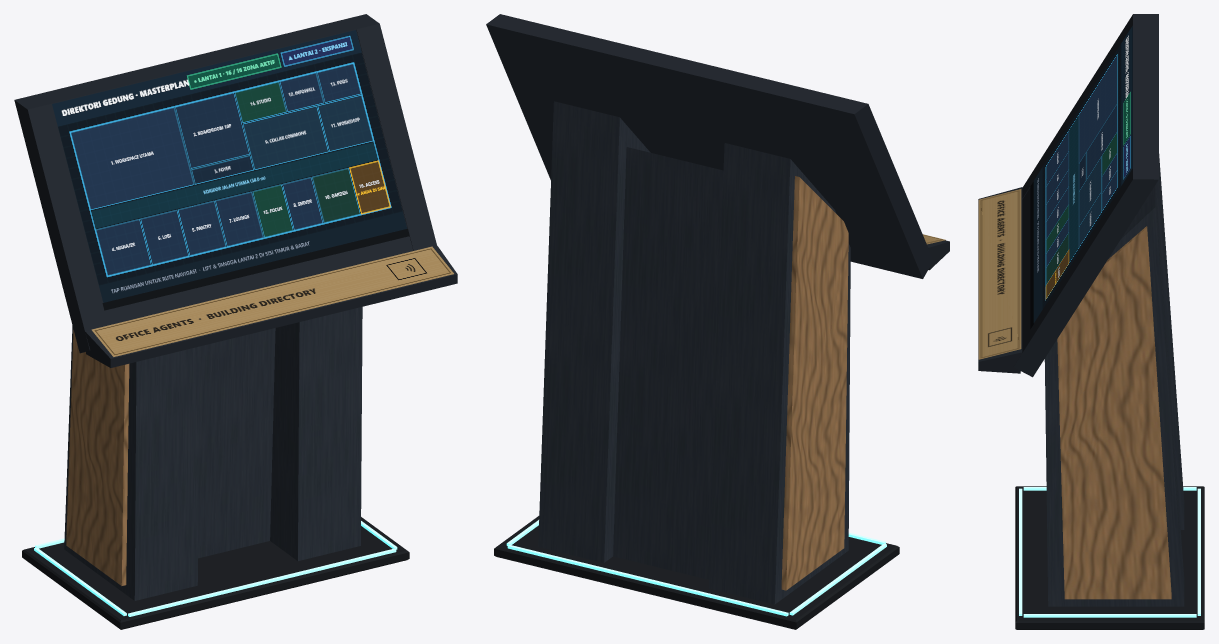
File: Office_Access_Floor_Map_Totem.glb
3 views of the same model, side by side, from view 1: azimuth 30°, elevation 25°; view 2: azimuth 150°, elevation 25°; view 3: azimuth 270°, elevation 25° (orthographic). The views are drawn at different scales.
Visible parts, largest first — view 1: Access_Map_Screen, Pedestal_Titanium_Columns, Console_Aluminum_Housing, Pedestal_Natural_Oak_Inlays, Weighted_Steel_Plinth, Bronze_WristRest_Badge, Console_Support_Lip, Console_Glass_Mask_Bottom, Perimeter_Cyan_Floor_Wash; view 2: Pedestal_Titanium_Columns, Console_Aluminum_Housing, Pedestal_Natural_Oak_Inlays, Weighted_Steel_Plinth, Perimeter_Cyan_Floor_Wash; view 3: Pedestal_Natural_Oak_Inlays, Access_Map_Screen, Console_Aluminum_Housing, Pedestal_Titanium_Columns, Weighted_Steel_Plinth, Bronze_WristRest_Badge, Perimeter_Cyan_Floor_Wash, Console_Support_Lip, Console_Glass_Mask_Bottom.
Boxes of the visible parts, x1=… form: Access_Map_Screen: x1=52, y1=30, x2=406, y2=302; Pedestal_Titanium_Columns: x1=64, y1=307, x2=362, y2=600; Console_Aluminum_Housing: x1=14, y1=14, x2=436, y2=353; Pedestal_Natural_Oak_Inlays: x1=66, y1=330, x2=129, y2=585; Weighted_Steel_Plinth: x1=22, y1=517, x2=409, y2=629; Bronze_WristRest_Badge: x1=91, y1=246, x2=453, y2=356; Console_Support_Lip: x1=85, y1=245, x2=457, y2=367; Console_Glass_Mask_Bottom: x1=102, y1=228, x2=409, y2=310; Perimeter_Cyan_Floor_Wash: x1=34, y1=521, x2=397, y2=616; Pedestal_Titanium_Columns: x1=538, y1=101, x2=850, y2=604; Console_Aluminum_Housing: x1=486, y1=14, x2=933, y2=278; Pedestal_Natural_Oak_Inlays: x1=781, y1=176, x2=848, y2=590; Weighted_Steel_Plinth: x1=494, y1=516, x2=899, y2=629; Perimeter_Cyan_Floor_Wash: x1=506, y1=520, x2=886, y2=616; Pedestal_Natural_Oak_Inlays: x1=1057, y1=226, x2=1171, y2=599; Access_Map_Screen: x1=1033, y1=26, x2=1132, y2=322; Console_Aluminum_Housing: x1=1013, y1=14, x2=1158, y2=377; Pedestal_Titanium_Columns: x1=1044, y1=154, x2=1184, y2=606; Weighted_Steel_Plinth: x1=1015, y1=486, x2=1204, y2=629; Bronze_WristRest_Badge: x1=978, y1=189, x2=1021, y2=359; Perimeter_Cyan_Floor_Wash: x1=1019, y1=487, x2=1200, y2=617; Console_Support_Lip: x1=978, y1=187, x2=1022, y2=373; Console_Glass_Mask_Bottom: x1=1030, y1=181, x2=1034, y2=329.
Bounding box in the file's own units: 0.95 × 1.25 × 0.55.
Materials: 8 (4 with a texture image).
